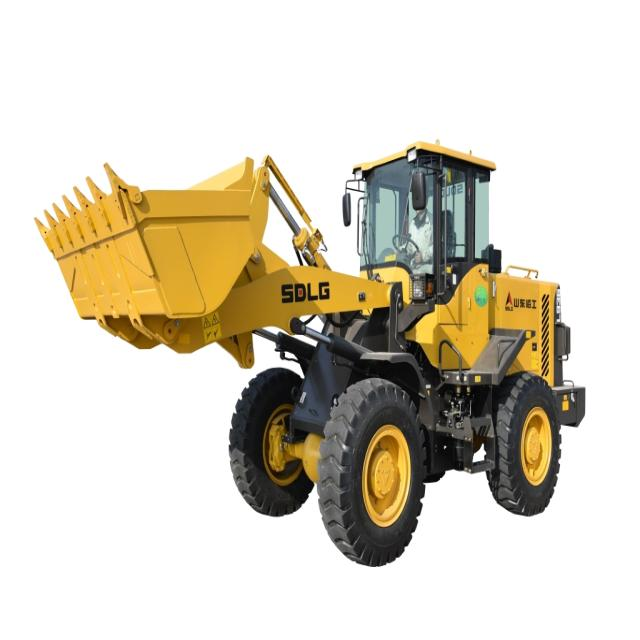buldozerpayloadergrader: (30, 134, 590, 571)
